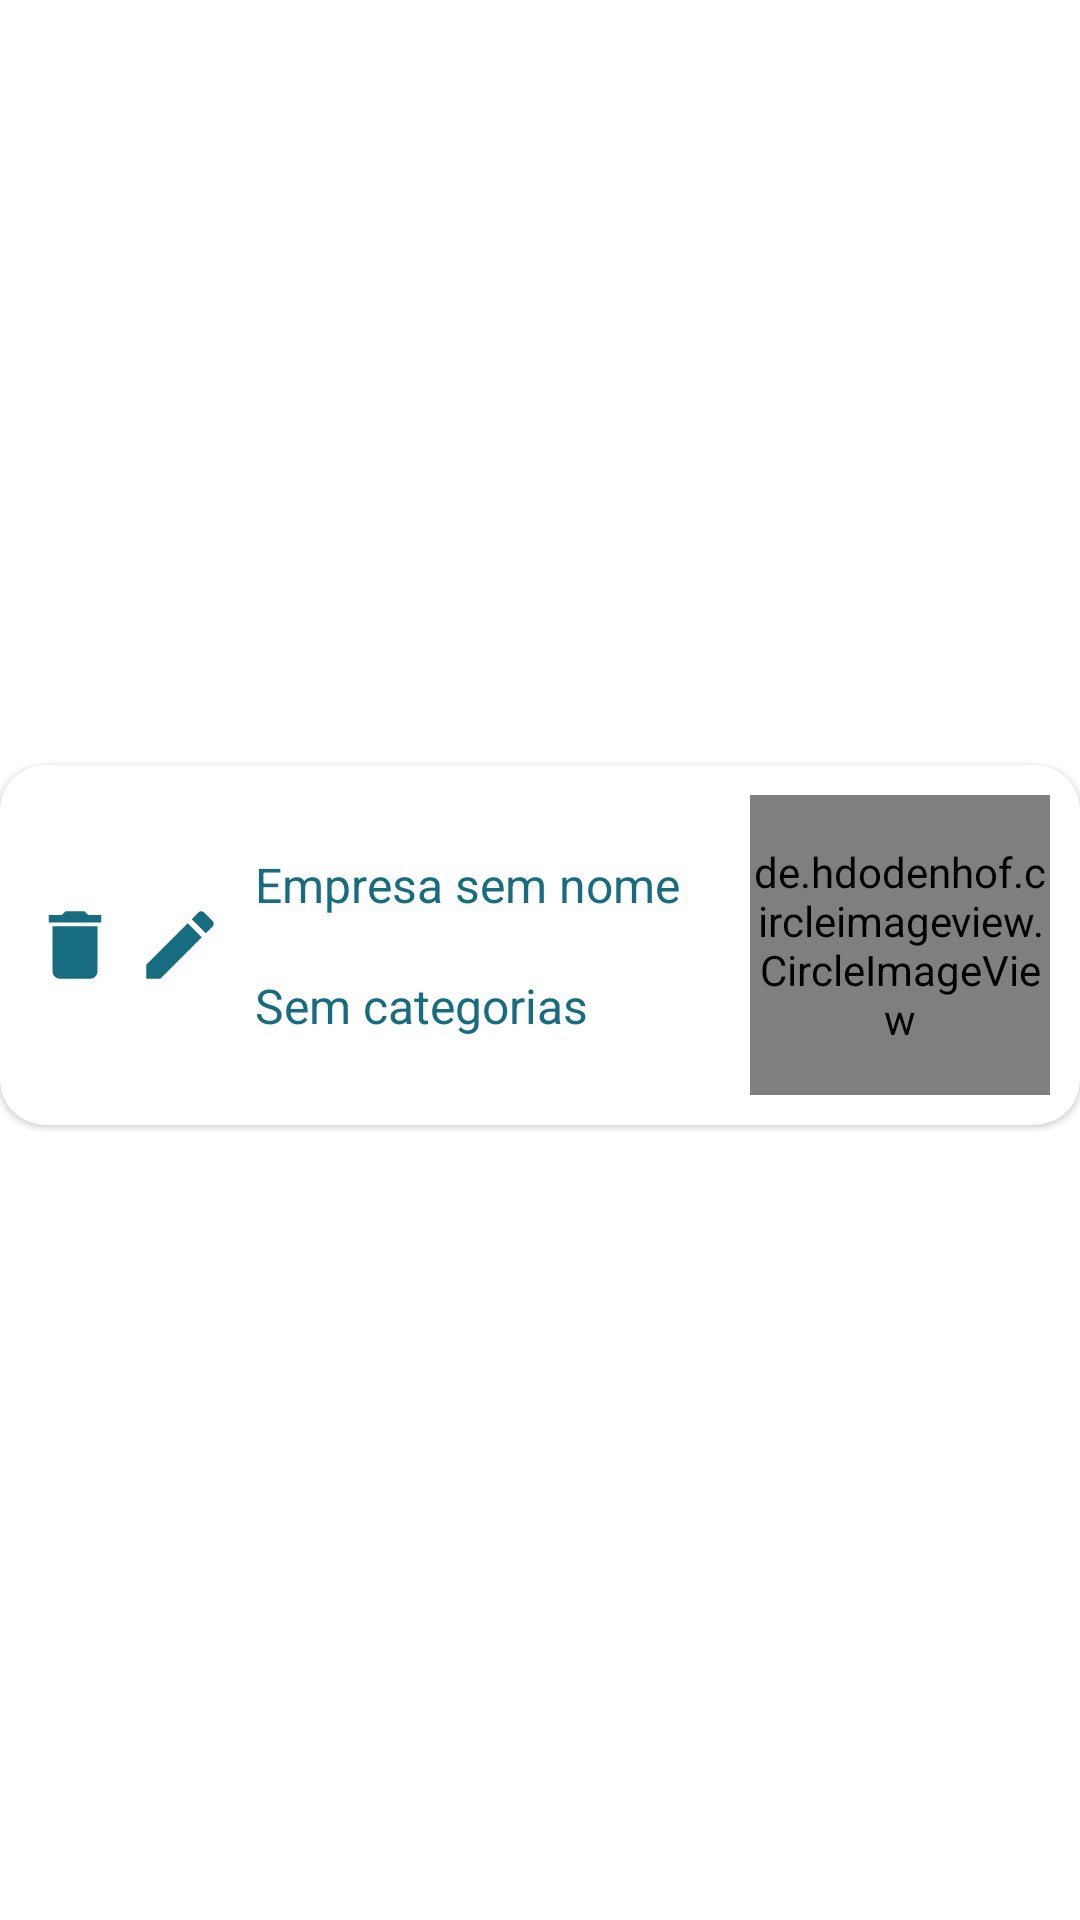

Where icons sit on this 1080×1920 app screen, as (left=x1, top=y1, right=x2, bottom=y2):
create: (left=146, top=911, right=214, bottom=979)
delete: (left=48, top=911, right=102, bottom=979)
